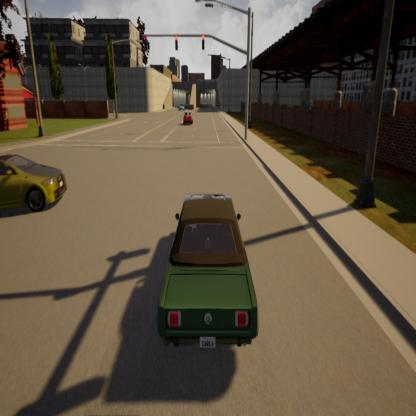Cars: (157, 191, 260, 351), (0, 150, 70, 214), (183, 116, 196, 128), (180, 102, 184, 113)
